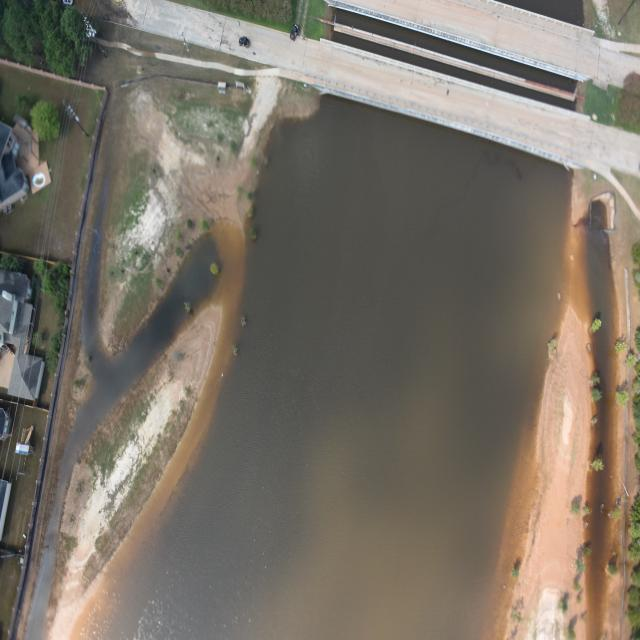fire: (85, 95, 571, 639), (25, 171, 220, 640), (585, 228, 619, 640)
